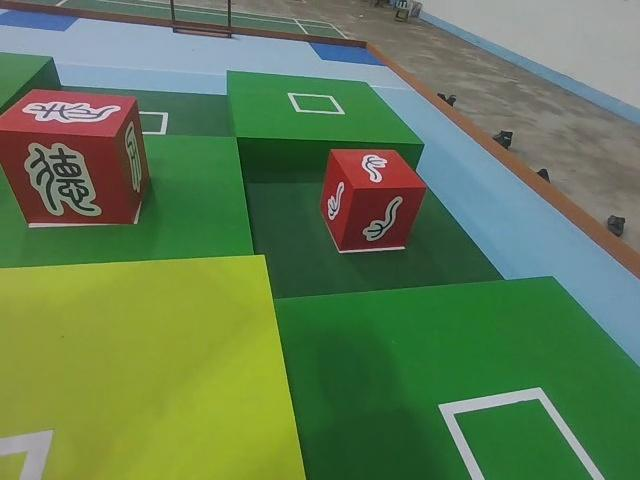R2 Fake: (0, 86, 153, 229)
R2 Real: (315, 142, 431, 253)
